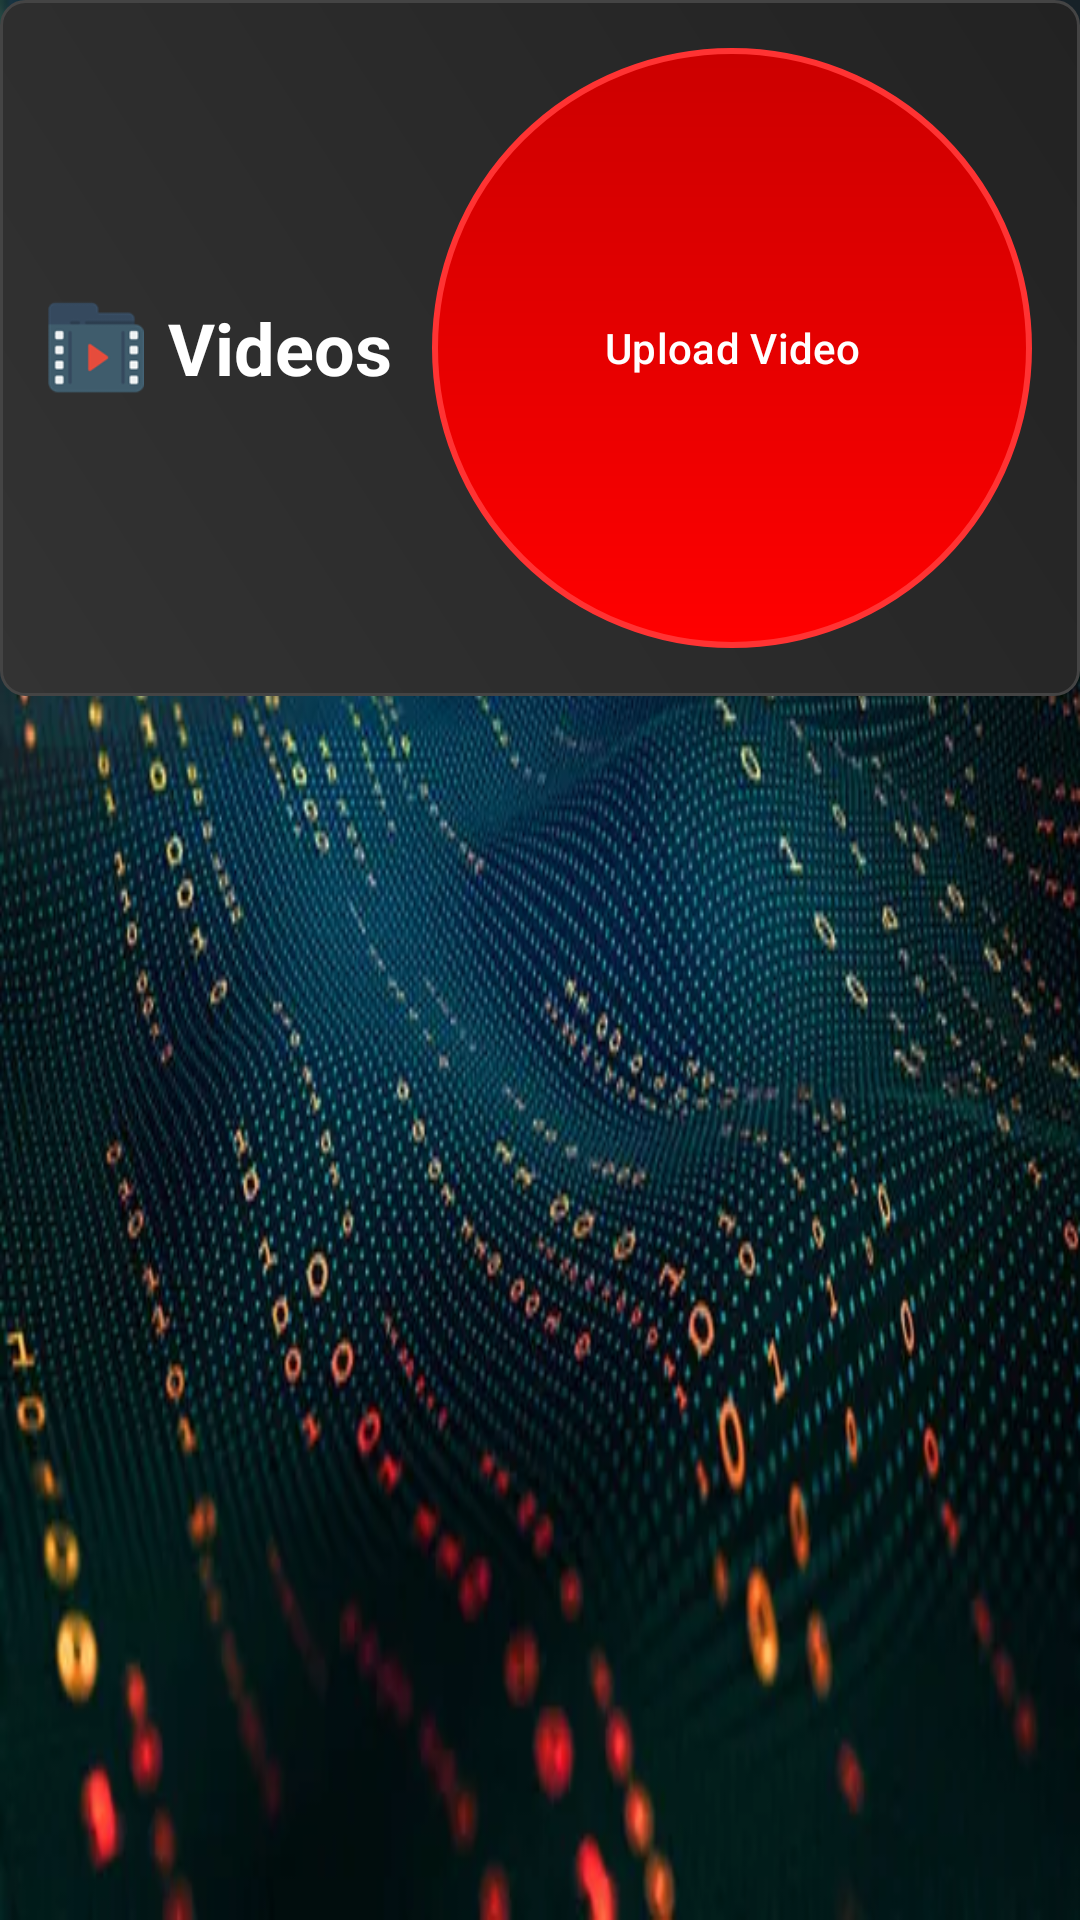

Icon bounding boxes for this 1080w x 1920h phone screenshot, format [x1, y1, x2, y2]:
video folder: [48, 303, 144, 392]
